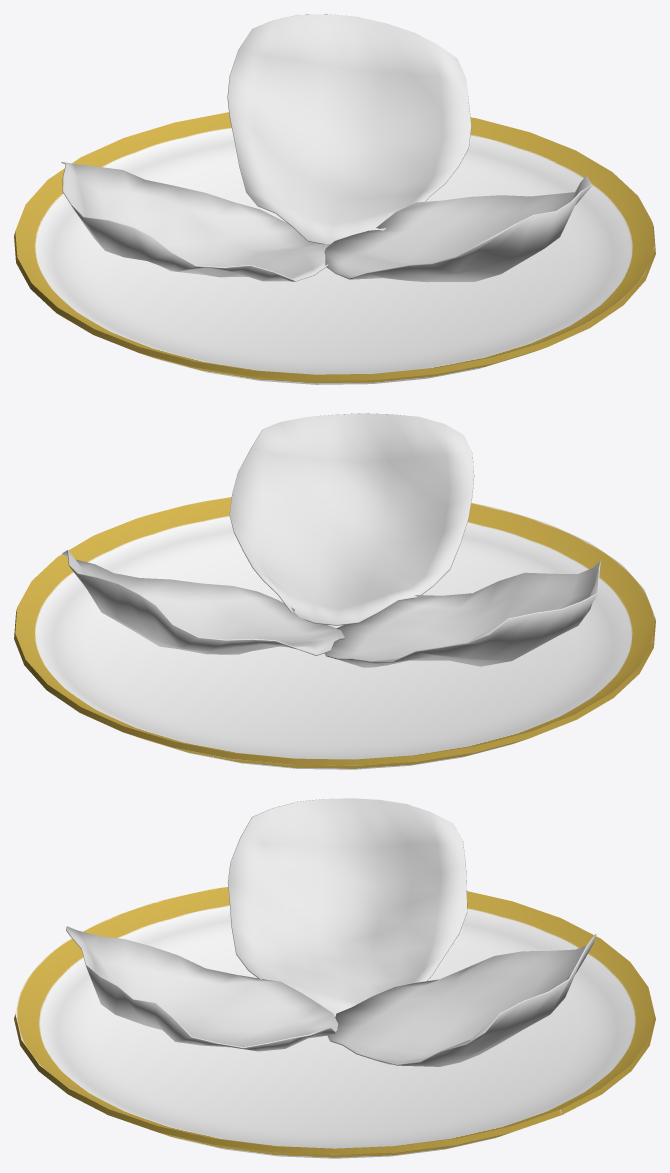
File: marullTabak.fbx
3 renders of one model, top to bottom at view 1: azimuth 30°, elevation 25°; view 2: azimuth 150°, elevation 25°; view 3: azimuth 270°, elevation 25°, orthographic.
Parts seen in each view (by area): view 1: MarulluTabak; view 2: MarulluTabak; view 3: MarulluTabak.
Boxes of the visible parts, x1=… form: MarulluTabak: x1=14, y1=14, x2=655, y2=384; MarulluTabak: x1=14, y1=413, x2=655, y2=769; MarulluTabak: x1=14, y1=798, x2=655, y2=1158.
Bounding box in the file's own units: 88.05 × 20.29 × 88.05.
